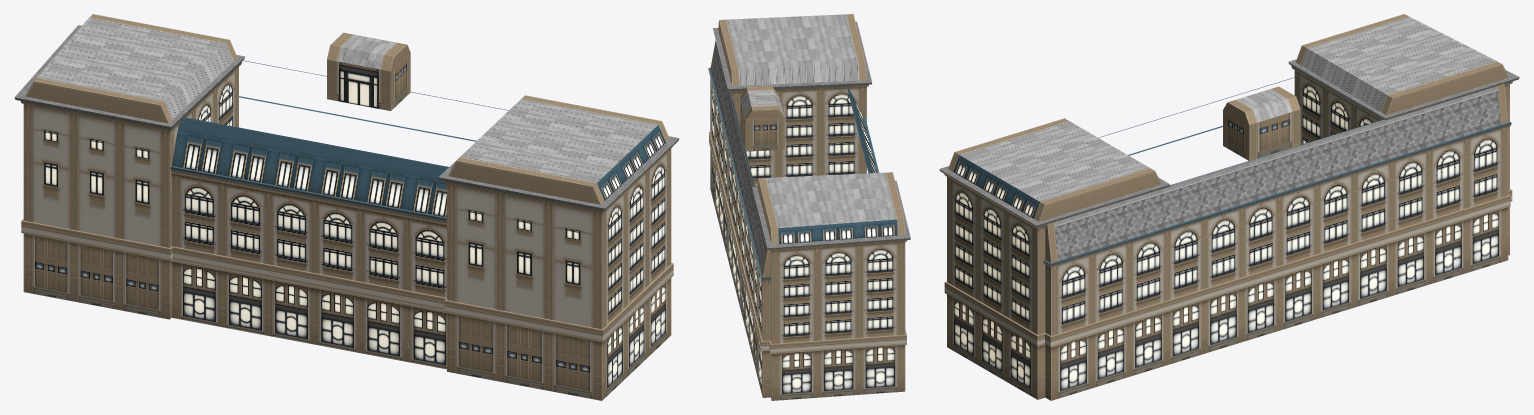
3 renders of one model, left to right at view 1: azimuth 30°, elevation 25°; view 2: azimuth 150°, elevation 25°; view 3: azimuth 270°, elevation 25°, orthographic. The views are drawn at different scales.
Visible parts, largest first — view 1: nomerge_t1_b22_1_mdl, nomerge_t1_b22_1_vrt_col_mdl; view 2: nomerge_t1_b22_1_mdl, nomerge_t1_b22_1_vrt_col_mdl; view 3: nomerge_t1_b22_1_mdl, nomerge_t1_b22_1_vrt_col_mdl.
Boxes of the visible parts, box(x1,y1,x2,y2) form: nomerge_t1_b22_1_mdl: box(14, 14, 679, 400); nomerge_t1_b22_1_vrt_col_mdl: box(37, 17, 657, 182); nomerge_t1_b22_1_mdl: box(708, 14, 910, 400); nomerge_t1_b22_1_vrt_col_mdl: box(711, 14, 896, 272); nomerge_t1_b22_1_mdl: box(939, 14, 1519, 400); nomerge_t1_b22_1_vrt_col_mdl: box(960, 17, 1501, 260).
Size of the model in its own units: 57.44 by 29.29 by 69.63.
Materials: 6 (6 with a texture image).
